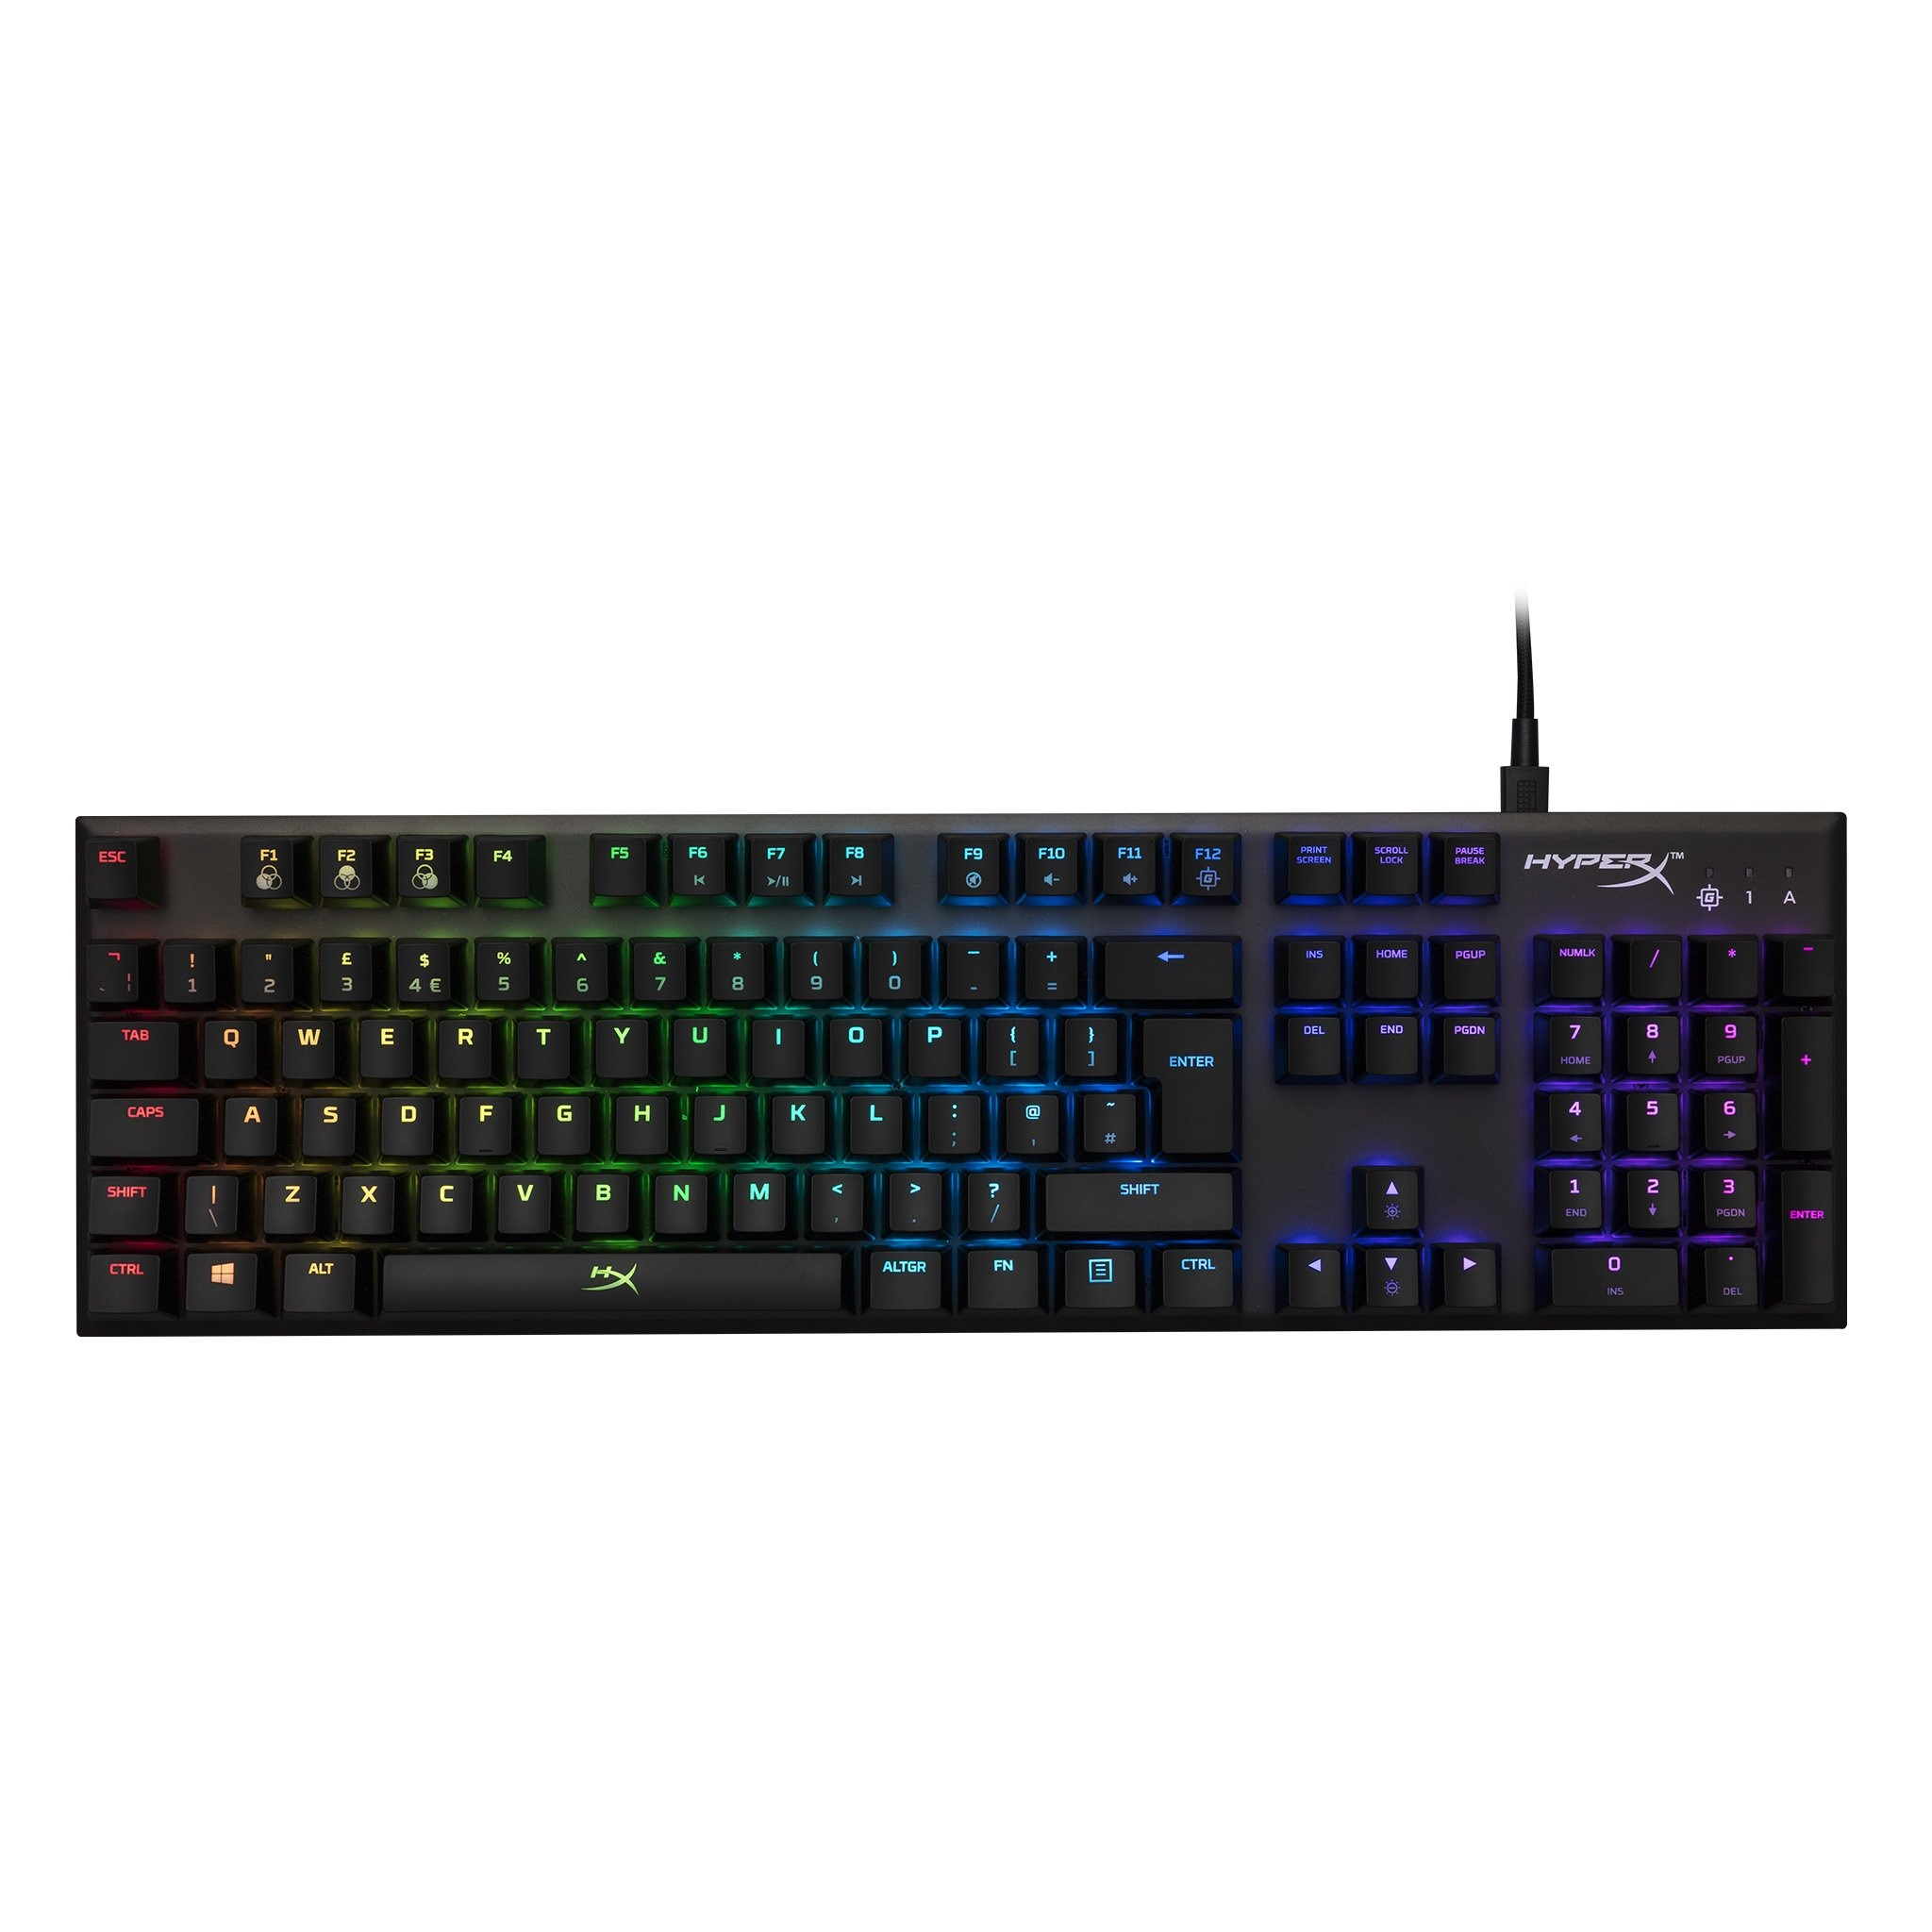keyboard: (46, 747, 1898, 1431)
